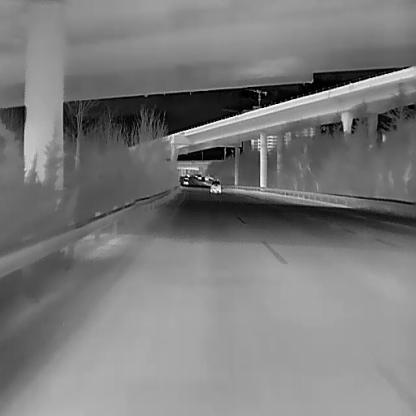car: (209, 180, 220, 192), (183, 176, 189, 184)
